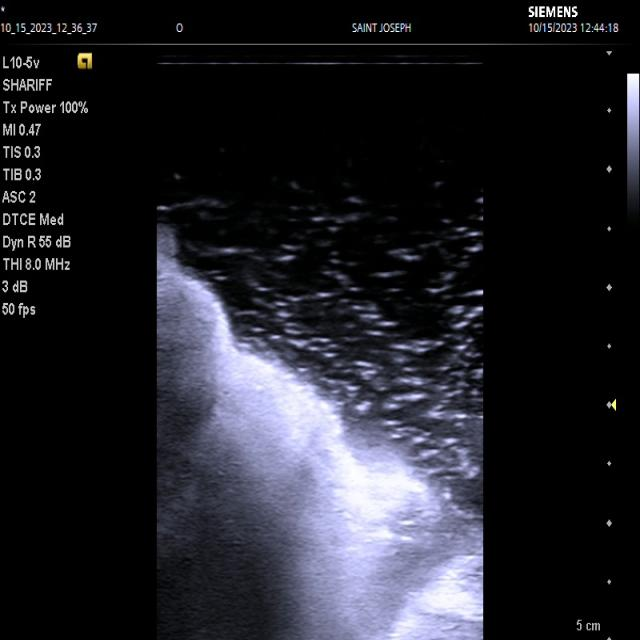tissue: (156, 227, 482, 640)
